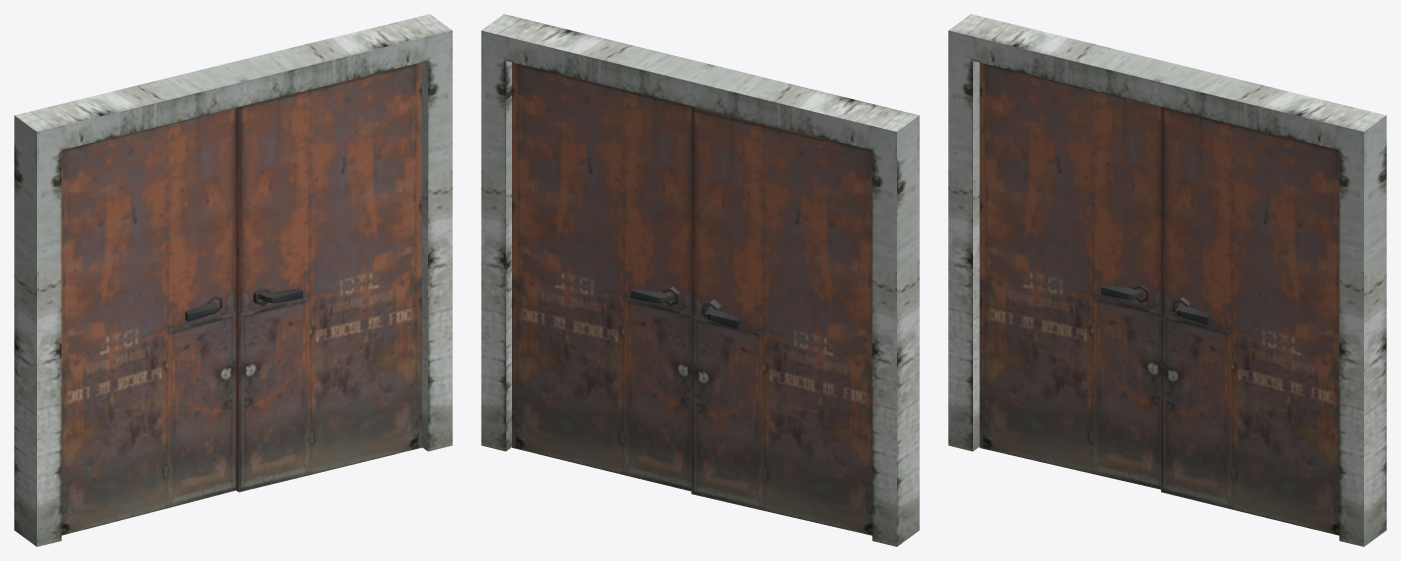
File: Porte5.glb
The picture shows the model from 3 angles, left to right: view 1: azimuth 30°, elevation 25°; view 2: azimuth 150°, elevation 25°; view 3: azimuth 330°, elevation 25°; orthographic projection.
Parts seen in each view (by area): view 1: Porte5; view 2: Porte5; view 3: Porte5.
Part boxes in pixels (x1,y1,x2,y2): Porte5: [14, 14, 452, 546]; Porte5: [481, 14, 919, 546]; Porte5: [948, 14, 1386, 546].
Bounding box in the file's own units: 2.27 × 2.16 × 0.324.
1 material, 1 textured.
